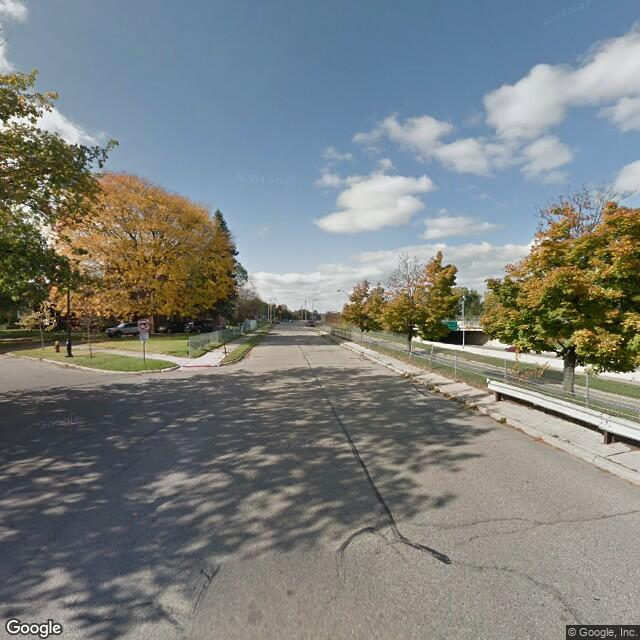litter: (401, 369, 411, 376)
